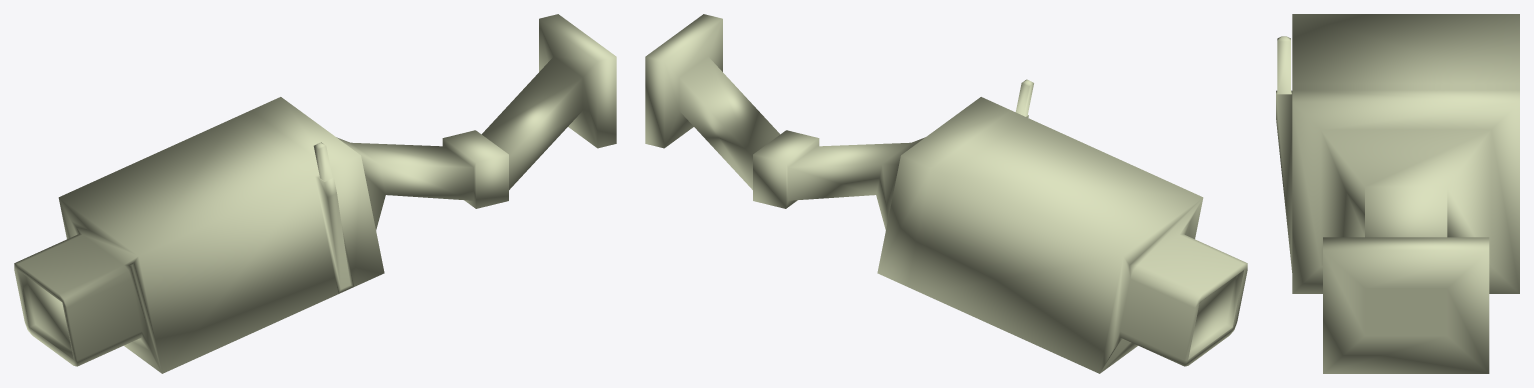
The model's file is Camera.fbx.
3 renders of one model, left to right at view 1: azimuth 30°, elevation 25°; view 2: azimuth 150°, elevation 25°; view 3: azimuth 270°, elevation 25°, orthographic. The views are drawn at different scales.
Visible parts, largest first — view 1: Camera:Box001; view 2: Camera:Box001; view 3: Camera:Box001.
Part boxes in pixels (x1,y1,x2,y2): Camera:Box001: (14, 14, 616, 373); Camera:Box001: (645, 14, 1247, 373); Camera:Box001: (1276, 14, 1519, 373).
Bounding box in the file's own units: 20.34 × 6.93 × 5.51.
